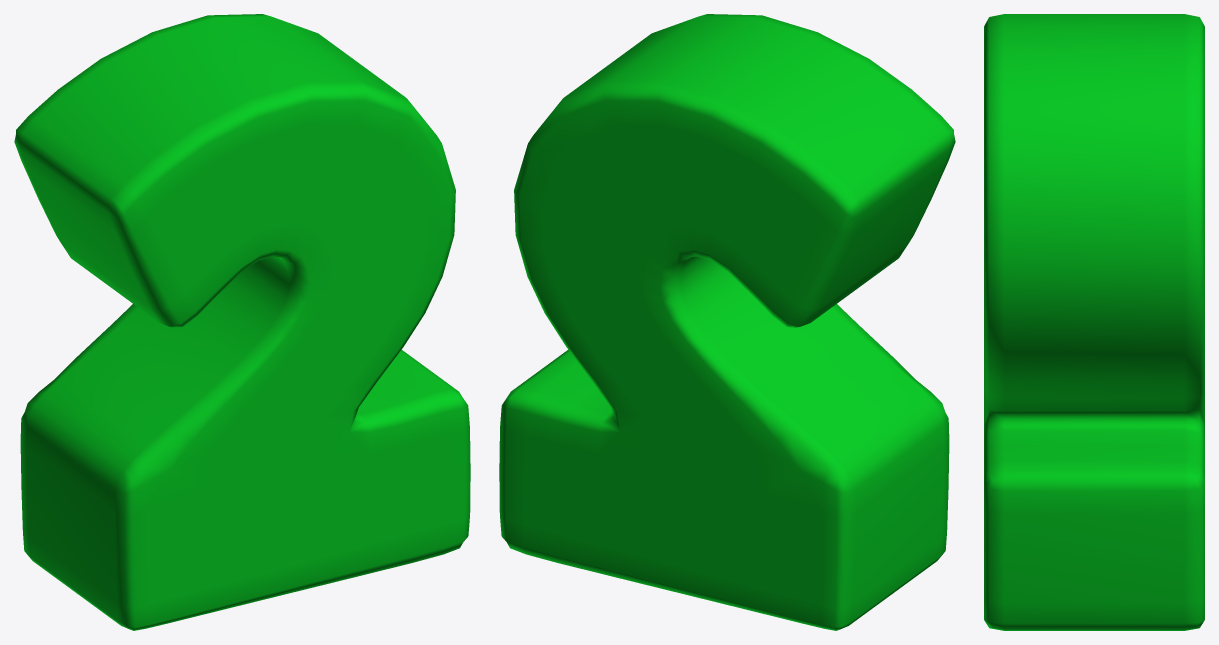
3 views of the same model, side by side, from view 1: azimuth 30°, elevation 25°; view 2: azimuth 150°, elevation 25°; view 3: azimuth 270°, elevation 25° (orthographic).
Parts seen in each view (by area): view 1: A:Mesh2_numbers_0; view 2: A:Mesh2_numbers_0; view 3: A:Mesh2_numbers_0.
Boxes of the visible parts, x1,y1,x2,y2 form: A:Mesh2_numbers_0: [14, 14, 470, 630]; A:Mesh2_numbers_0: [499, 14, 955, 630]; A:Mesh2_numbers_0: [984, 14, 1204, 630].
Bounding box in the file's own units: 25.69 × 34.53 × 13.53.
